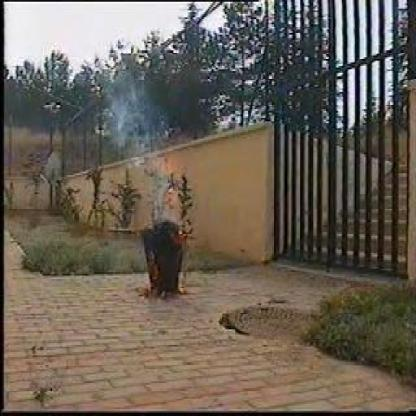-: (96, 80, 158, 138)
